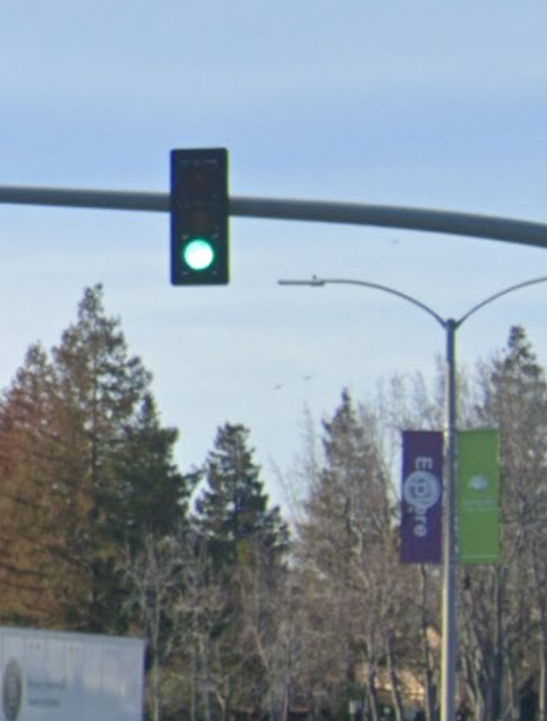green_light: (173, 149, 225, 284)
